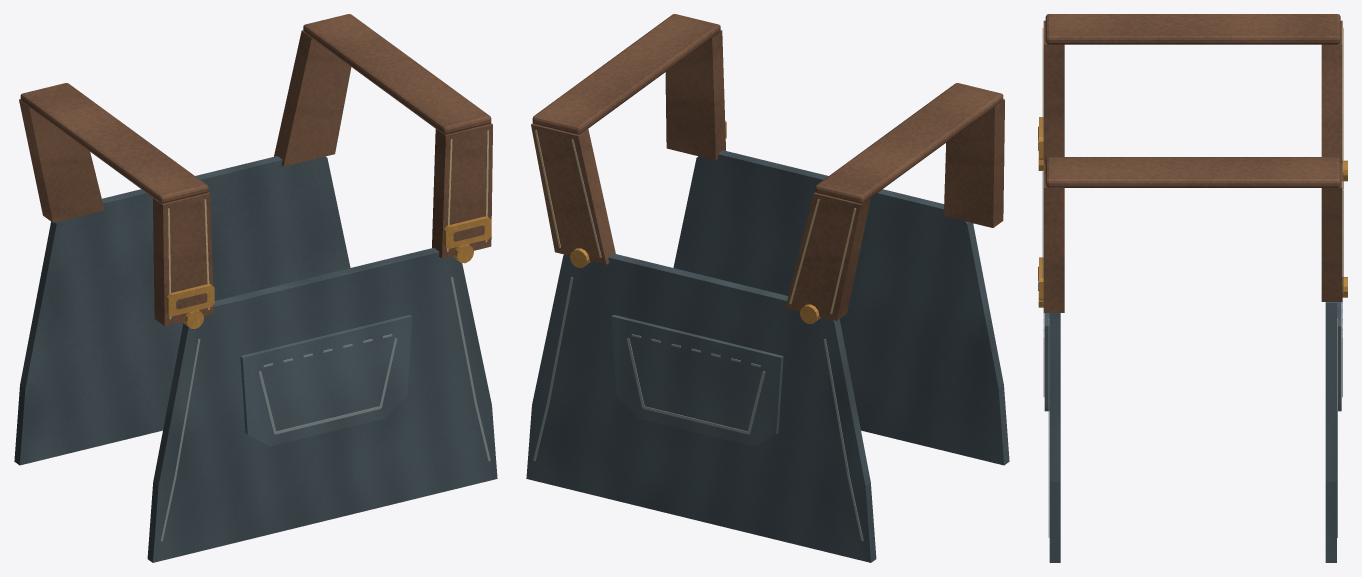
Rendered from 05_Salopette.fbx.
3 renders of one model, left to right at view 1: azimuth 30°, elevation 25°; view 2: azimuth 150°, elevation 25°; view 3: azimuth 270°, elevation 25°, orthographic. The views are drawn at different scales.
Visible parts, largest first — view 1: 05_Salopette; view 2: 05_Salopette; view 3: 05_Salopette.
Boxes of the visible parts, box(x1,y1,x2,y2) form: 05_Salopette: box(14, 14, 497, 562); 05_Salopette: box(526, 14, 1009, 562); 05_Salopette: box(1038, 14, 1347, 562).
Bounding box in the file's own units: 1.6 × 1.63 × 1.2.
1 material, 1 textured.
